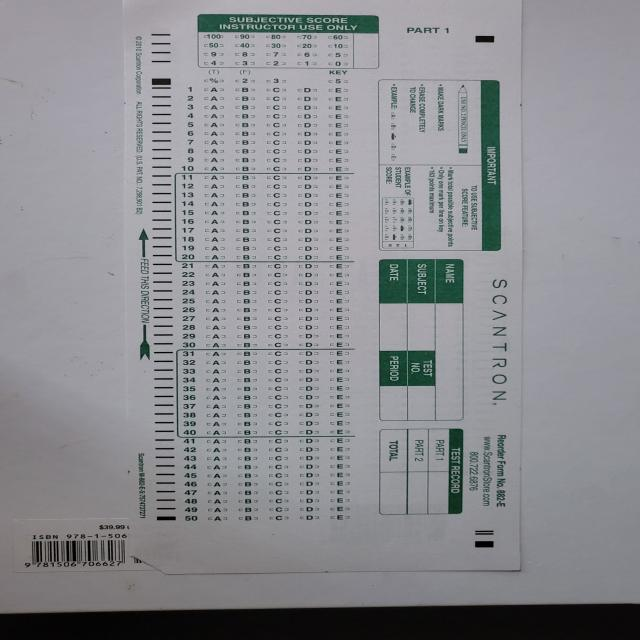scantron: (122, 0, 524, 573)
